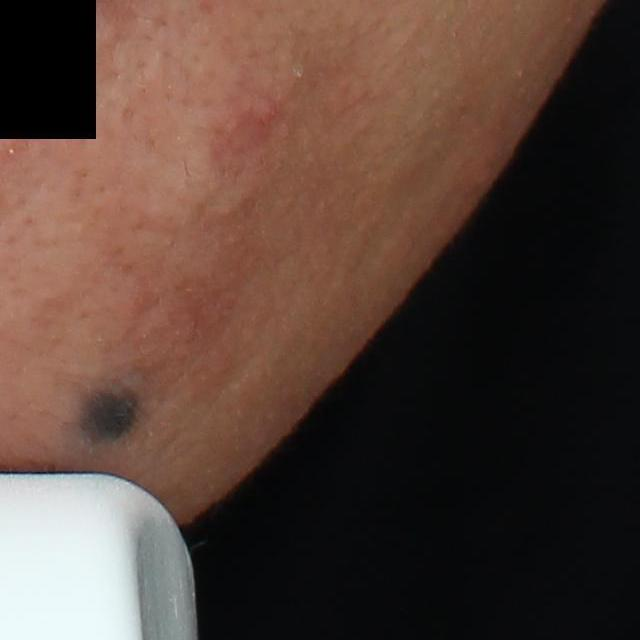nevus: (74, 375, 143, 447)
papule: (254, 97, 278, 127)
